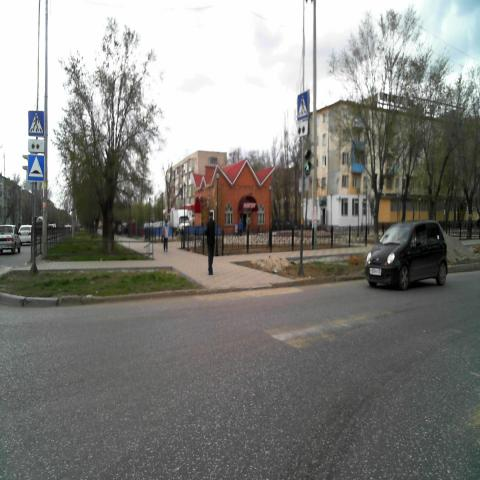8_15: (28, 138, 46, 151)
